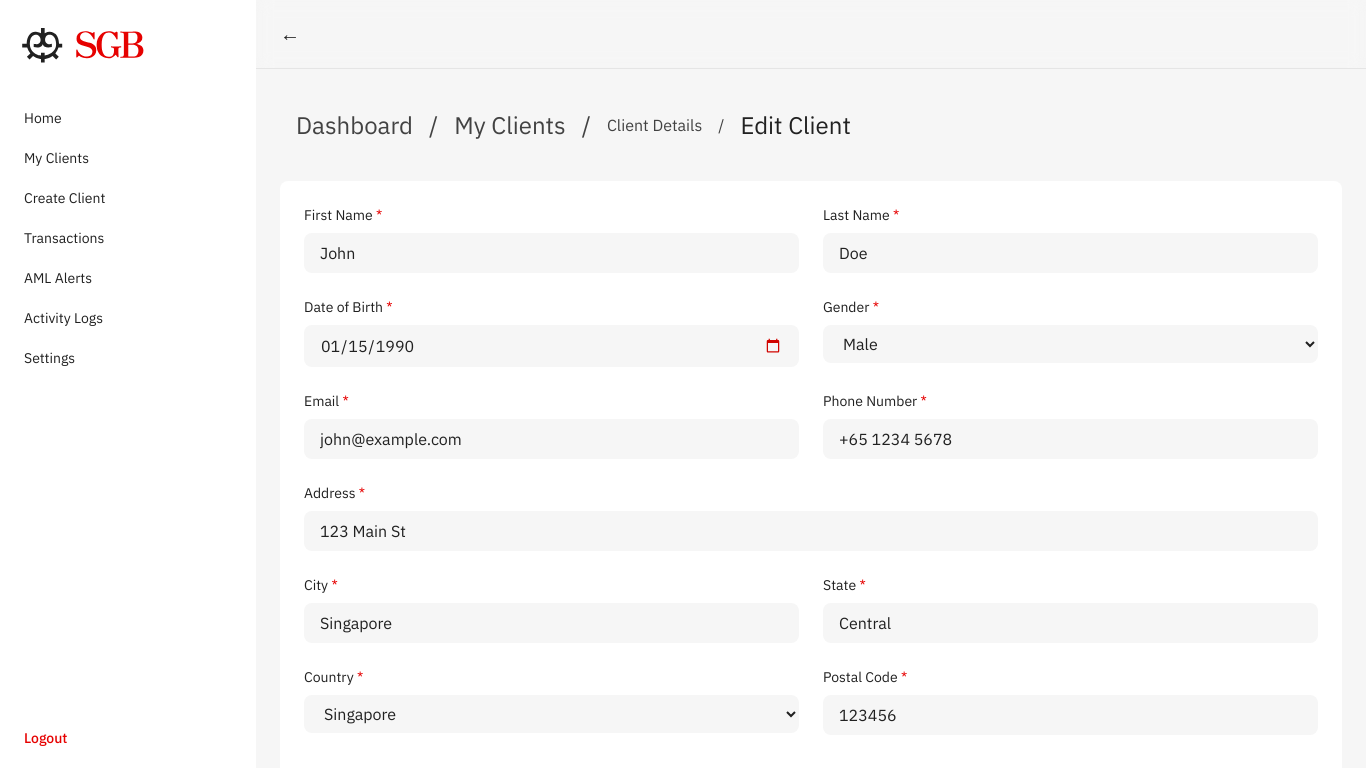
Test: UserEditClient › should show validation errors for invalid email and phone formats
The image size is (1366, 768).
Step 1. Replace the text in the field showing "john@example.com" below "Email" with "invalid-email" → [552, 439], box x1=304 y1=419 x2=799 y2=459
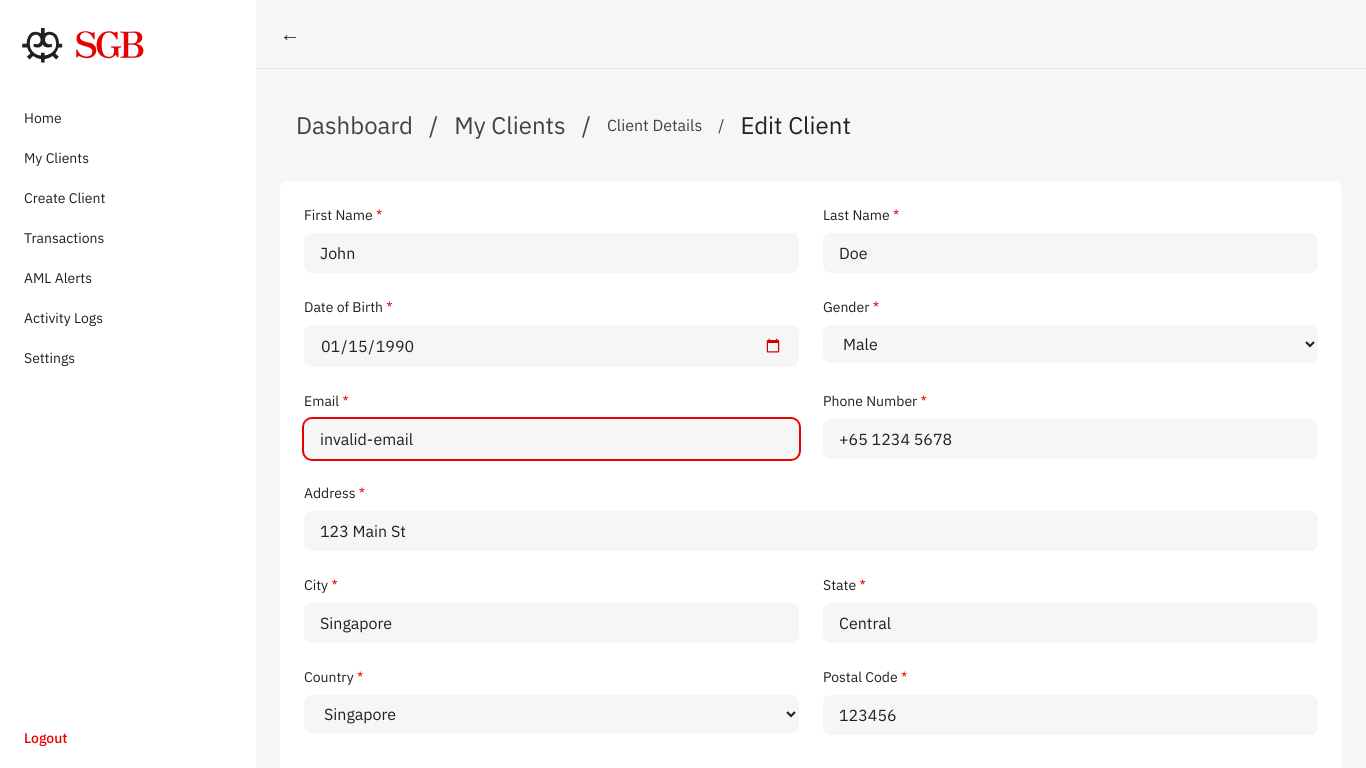
Step 2. Type "123" into the field showing "+65 1234 5678" below "Phone Number" → [1070, 439], box x1=823 y1=419 x2=1318 y2=459
(page scrolled)
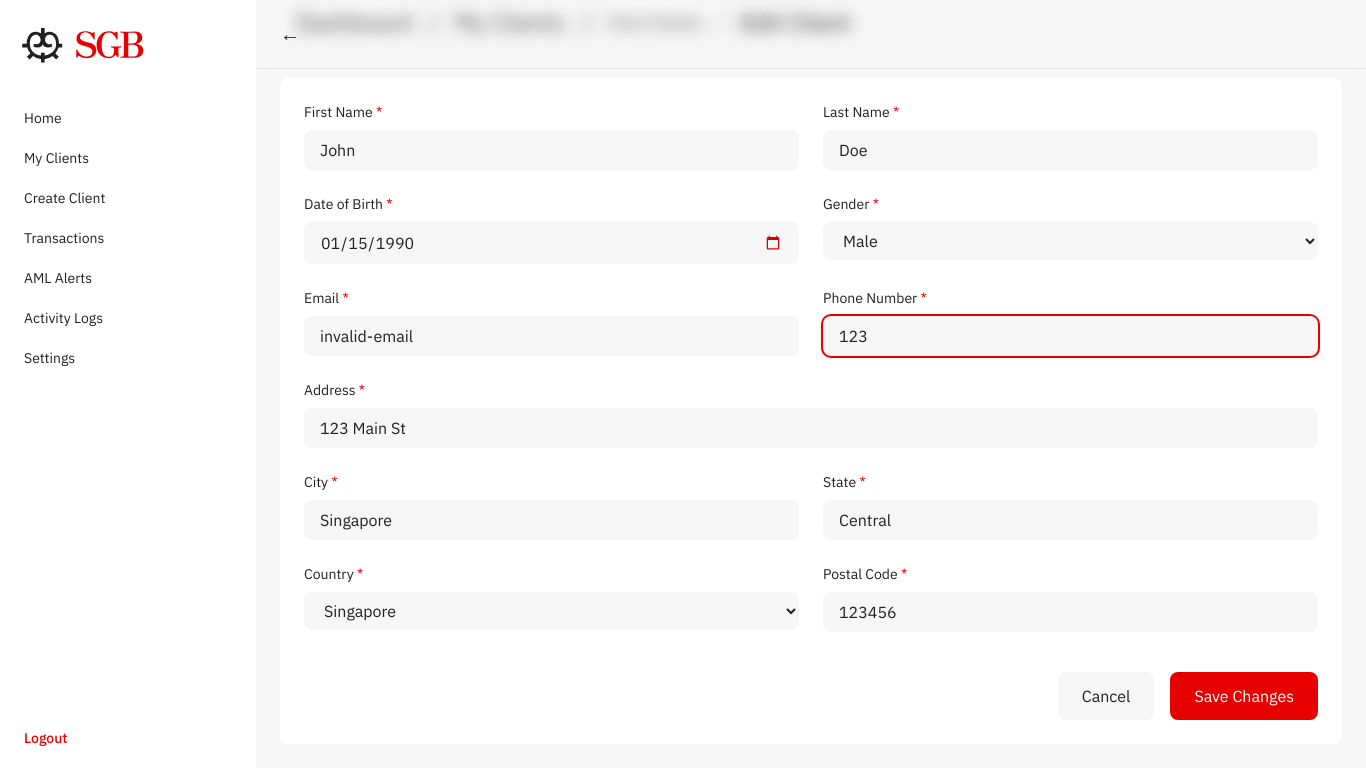
Step 3. Click the button "Save Changes" → [1244, 696], box x1=1170 y1=672 x2=1318 y2=720
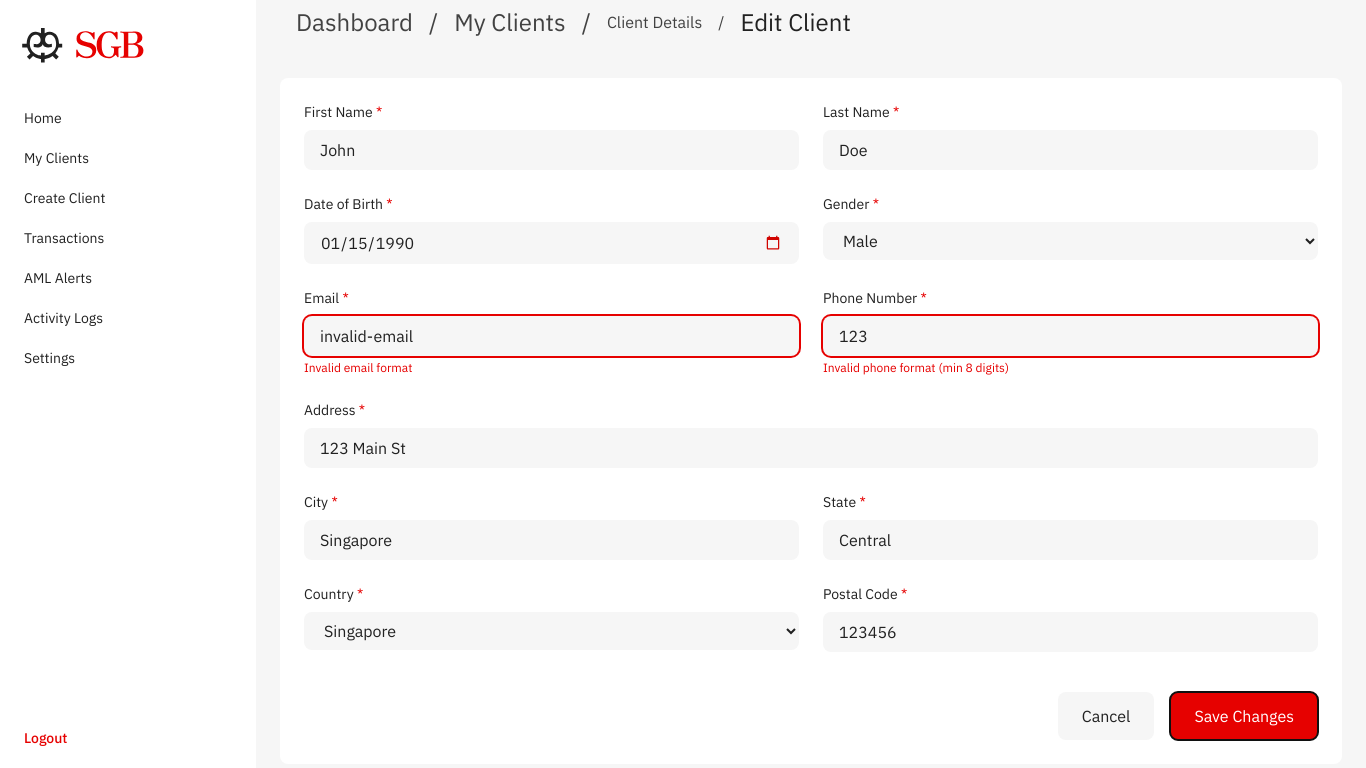
Check: the text "Invalid email format" is shown, box x1=304 y1=360 x2=412 y2=375
Check: the text "Invalid phone format (min 8 digits)" is shown, box x1=823 y1=360 x2=1009 y2=375
